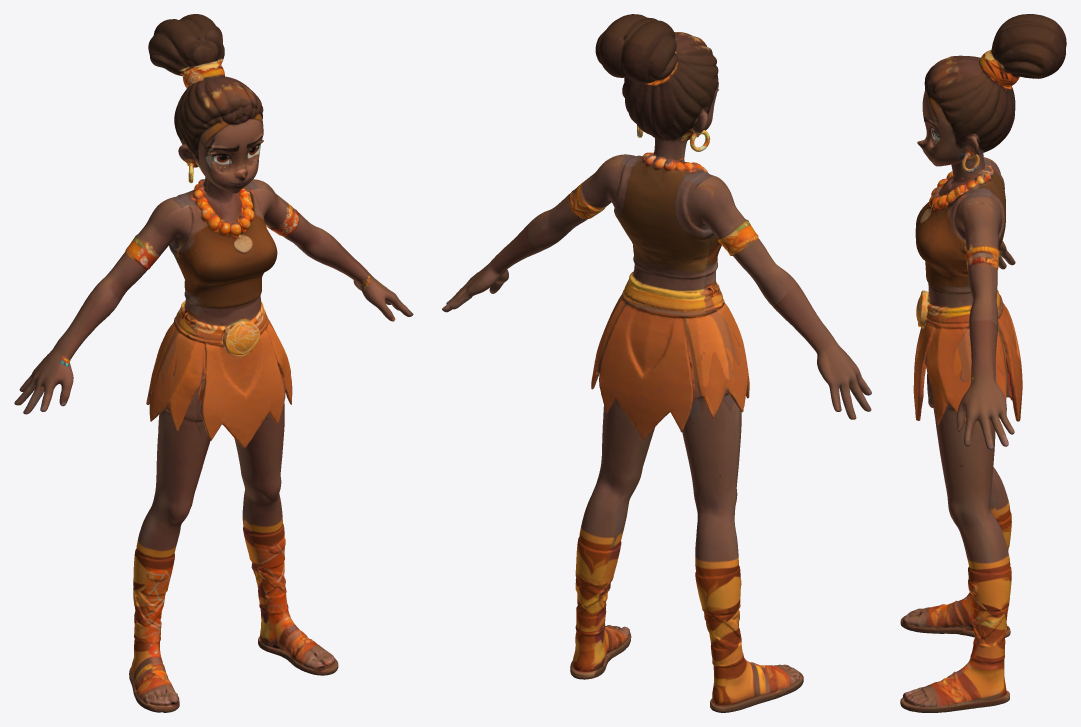
The model's file is Warrior_of_the_Dawn_1010113846_texture.glb.
3 renders of one model, left to right at view 1: azimuth 30°, elevation 25°; view 2: azimuth 150°, elevation 25°; view 3: azimuth 270°, elevation 25°, orthographic. The views are drawn at different scales.
Bounding box in the file's own units: 1.22 × 1.9 × 0.4442.
1 material, 1 textured.
